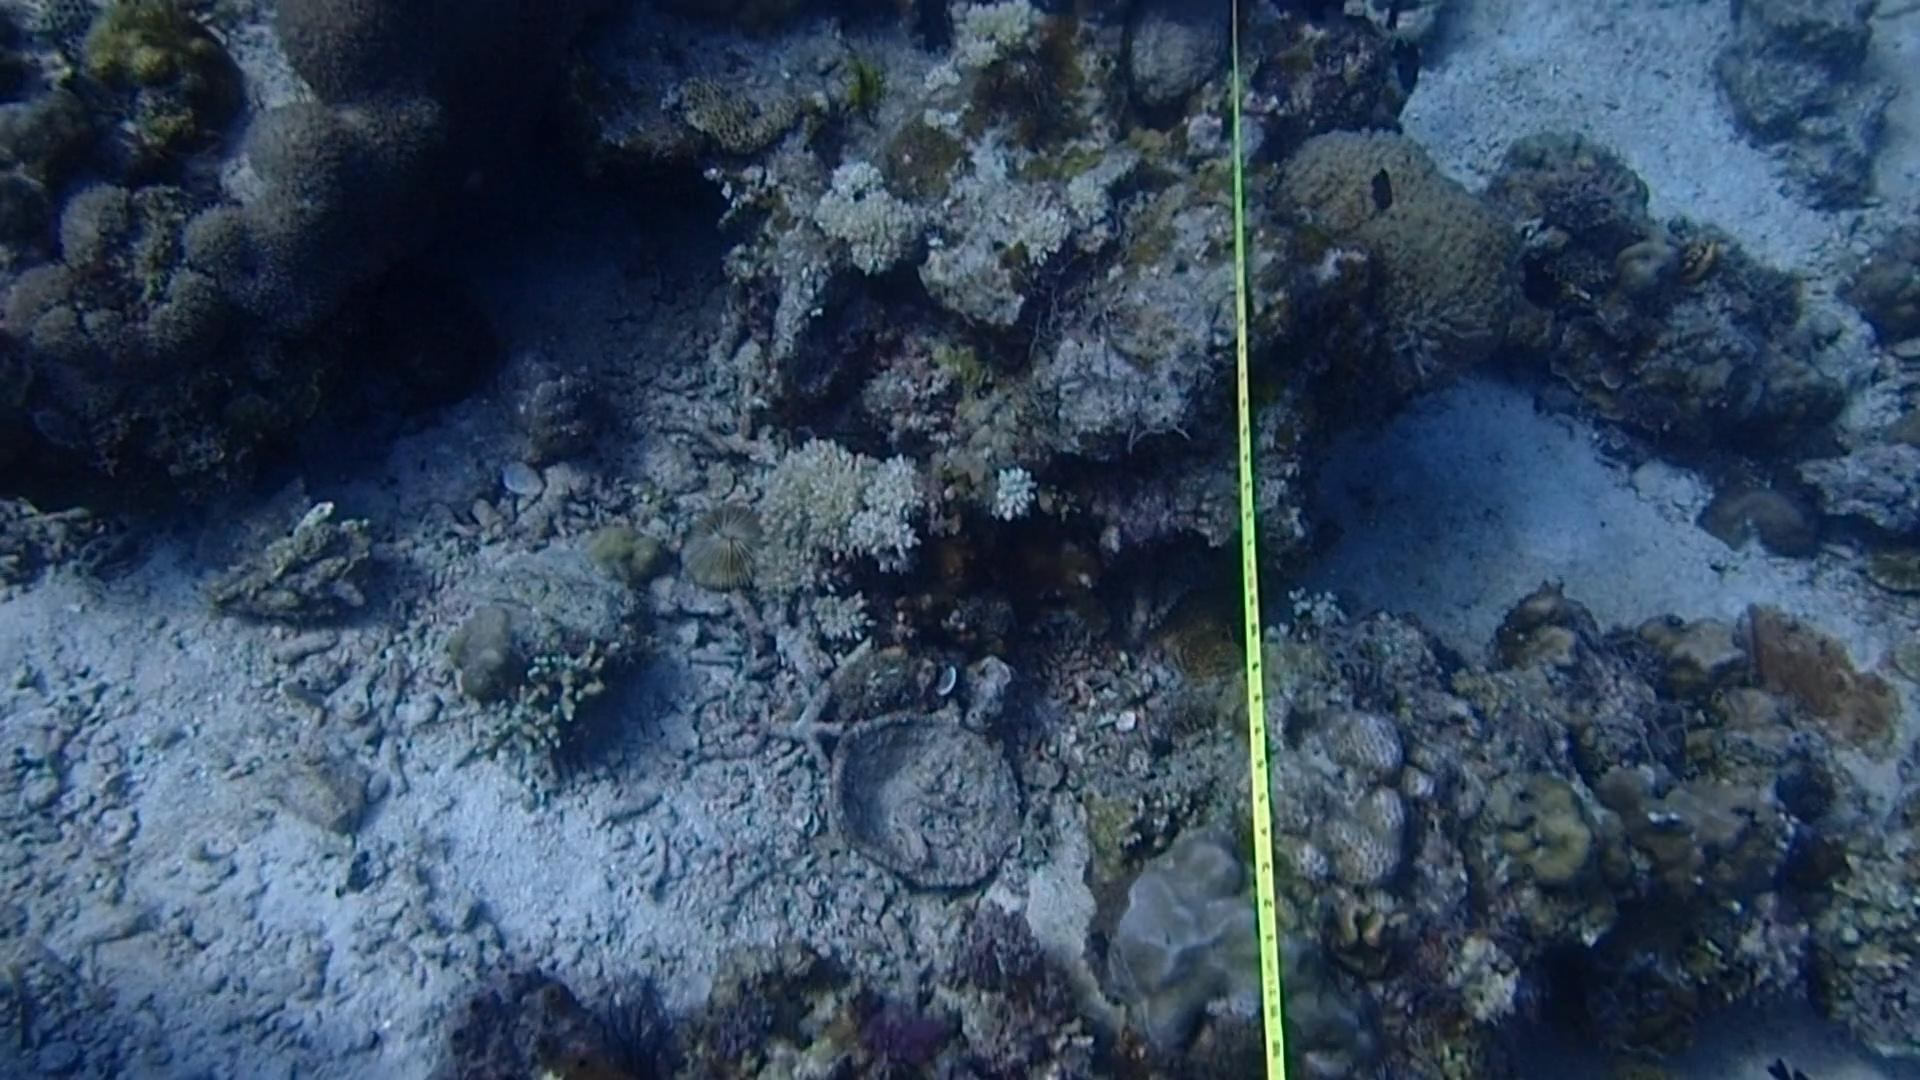Dark Fish: (1509, 237, 1568, 322), (1356, 156, 1412, 228), (1375, 36, 1431, 95)
